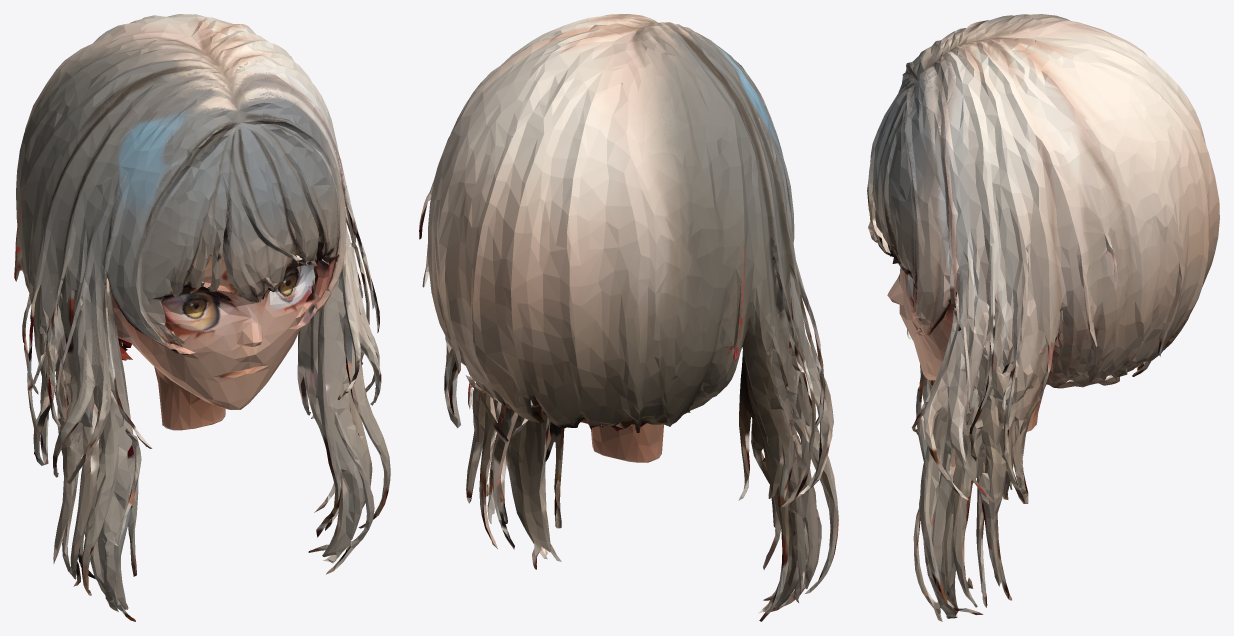
The model's file is side_hana_fitted_source_repaired_atlas.glb.
3 views of the same model, side by side, from view 1: azimuth 30°, elevation 25°; view 2: azimuth 150°, elevation 25°; view 3: azimuth 270°, elevation 25° (orthographic). The views are drawn at different scales.
Parts seen in each view (by area): view 1: temp_mesh.ply; view 2: temp_mesh.ply; view 3: temp_mesh.ply.
Part boxes in pixels (x1,y1,x2,y2): temp_mesh.ply: [14, 14, 390, 621]; temp_mesh.ply: [419, 14, 838, 621]; temp_mesh.ply: [867, 14, 1219, 621].
Size of the model in its own units: 1.32 by 1.97 by 1.16.
Materials: 1 (1 with a texture image).
